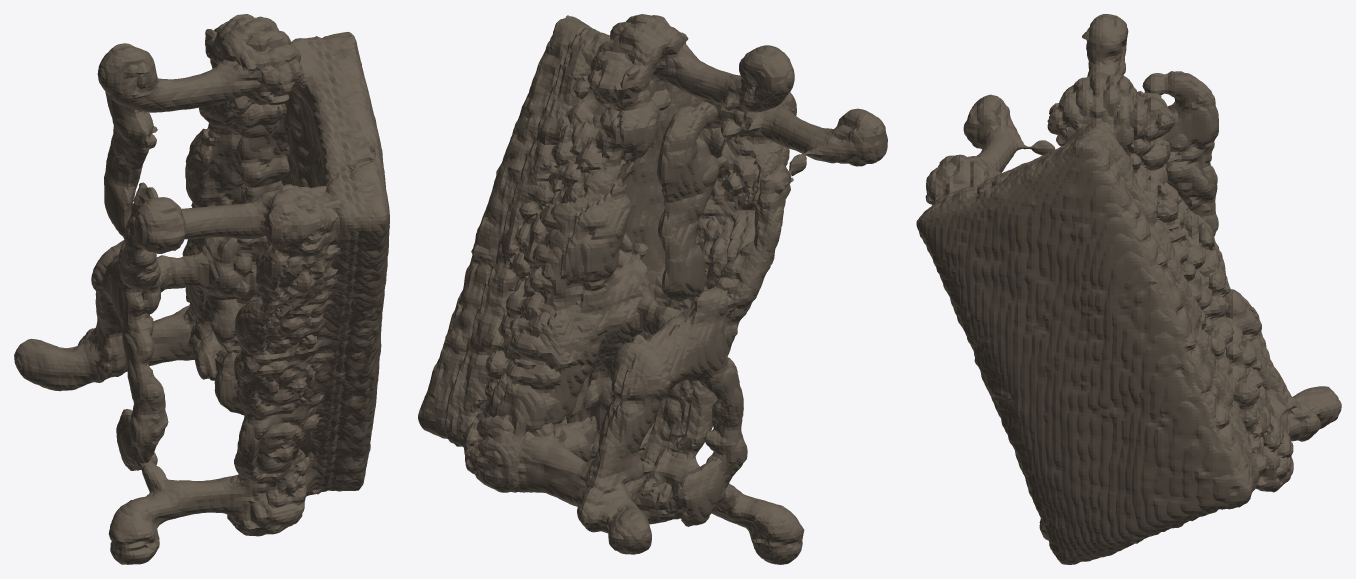
Rendered from raw.glb.
3 renders of one model, left to right at view 1: azimuth 30°, elevation 25°; view 2: azimuth 150°, elevation 25°; view 3: azimuth 270°, elevation 25°, orthographic. The views are drawn at different scales.
Visible parts, largest first — view 1: world; view 2: world; view 3: world.
Boxes of the visible parts, left/top/right/bottom form: world: left=14, top=14, right=389, bottom=564; world: left=418, top=14, right=887, bottom=564; world: left=916, top=14, right=1341, bottom=564.
Bounding box in the file's own units: 0.5 × 0.7589 × 0.6053.
